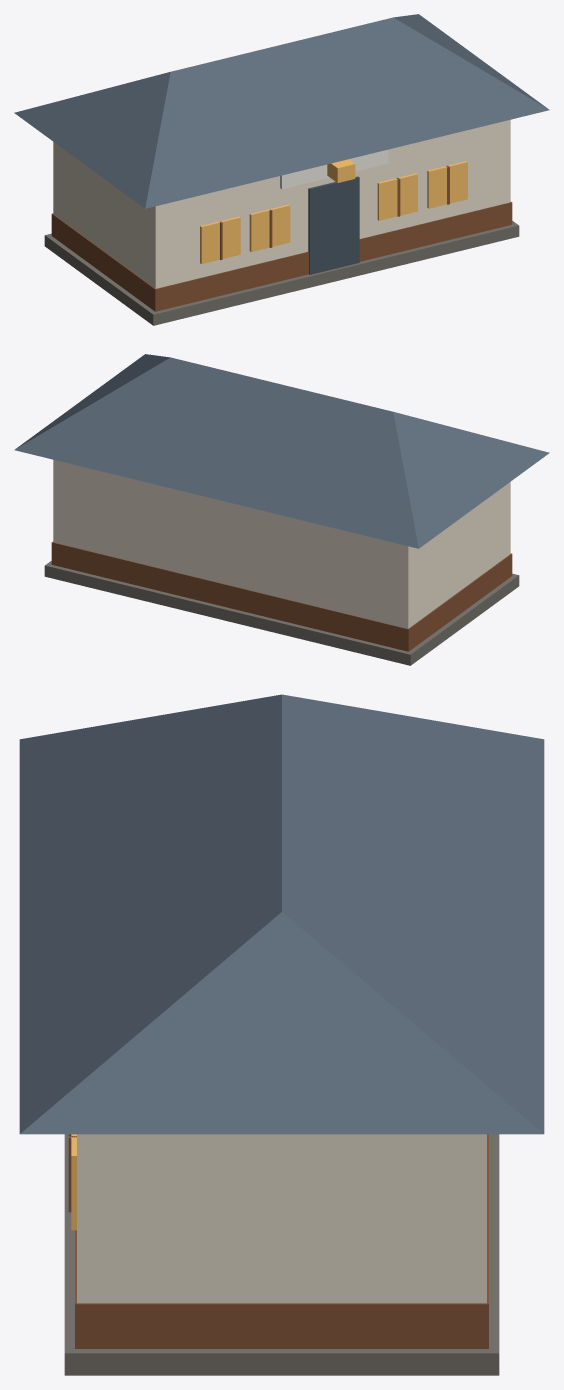
File: station_waiting_room_s1.fbx
The picture shows the model from 3 angles, top to bottom: view 1: azimuth 30°, elevation 25°; view 2: azimuth 150°, elevation 25°; view 3: azimuth 270°, elevation 25°; orthographic projection. The views are drawn at different scales.
Visible parts, largest first — view 1: station_waiting_room_s1; view 2: station_waiting_room_s1; view 3: station_waiting_room_s1.
Part boxes in pixels (x1,y1,x2,y2): station_waiting_room_s1: (14, 14, 549, 325); station_waiting_room_s1: (14, 354, 549, 665); station_waiting_room_s1: (19, 694, 544, 1375).
Size of the model in its own units: 11.4 by 5.3 by 6.4.
2 materials, 2 textured.
